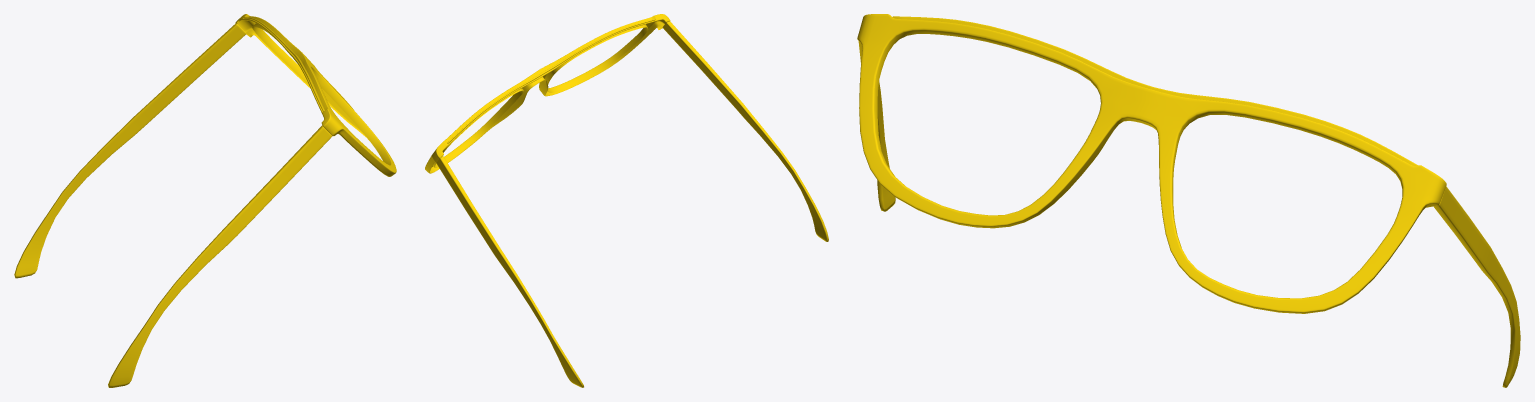
File: glasses2.fbx
3 views of the same model, side by side, from view 1: azimuth 30°, elevation 25°; view 2: azimuth 150°, elevation 25°; view 3: azimuth 270°, elevation 25° (orthographic). The views are drawn at different scales.
Parts seen in each view (by area): view 1: am_body; view 2: am_body; view 3: am_body.
Boxes of the visible parts, x1=… form: am_body: x1=14, y1=14, x2=396, y2=387; am_body: x1=425, y1=14, x2=828, y2=387; am_body: x1=857, y1=14, x2=1520, y2=387.
Size of the model in its own units: 12.88 by 9.95 by 13.29.
